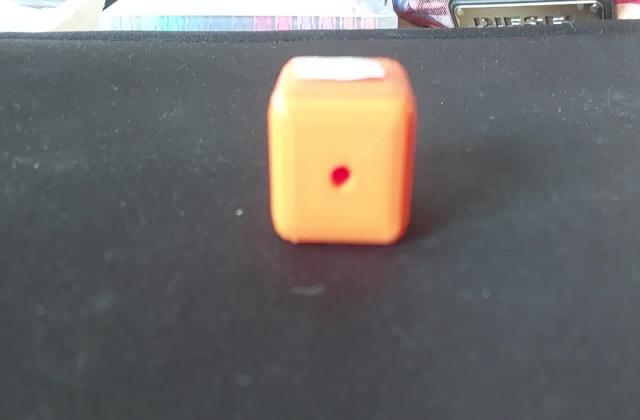cube: (264, 50, 418, 254)
white: (290, 53, 387, 86)
